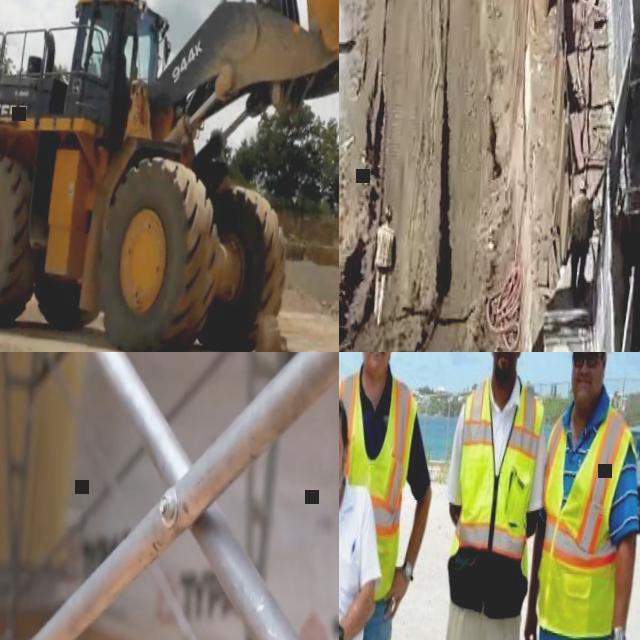helmet: (382, 204, 392, 219), (577, 178, 589, 189)
machinery: (0, 0, 339, 352)
no_helmet: (339, 397, 348, 435)
no_mask: (572, 372, 604, 411), (363, 352, 392, 379), (488, 352, 517, 378)
no_vest: (339, 481, 375, 640)
person: (429, 352, 557, 640), (516, 352, 640, 640), (339, 352, 449, 640), (339, 389, 391, 640), (368, 202, 398, 328), (565, 177, 597, 289), (100, 30, 133, 114)
vehicle: (620, 413, 640, 518)
vest: (533, 401, 636, 640), (448, 374, 545, 594), (339, 367, 419, 596), (375, 225, 395, 266)
